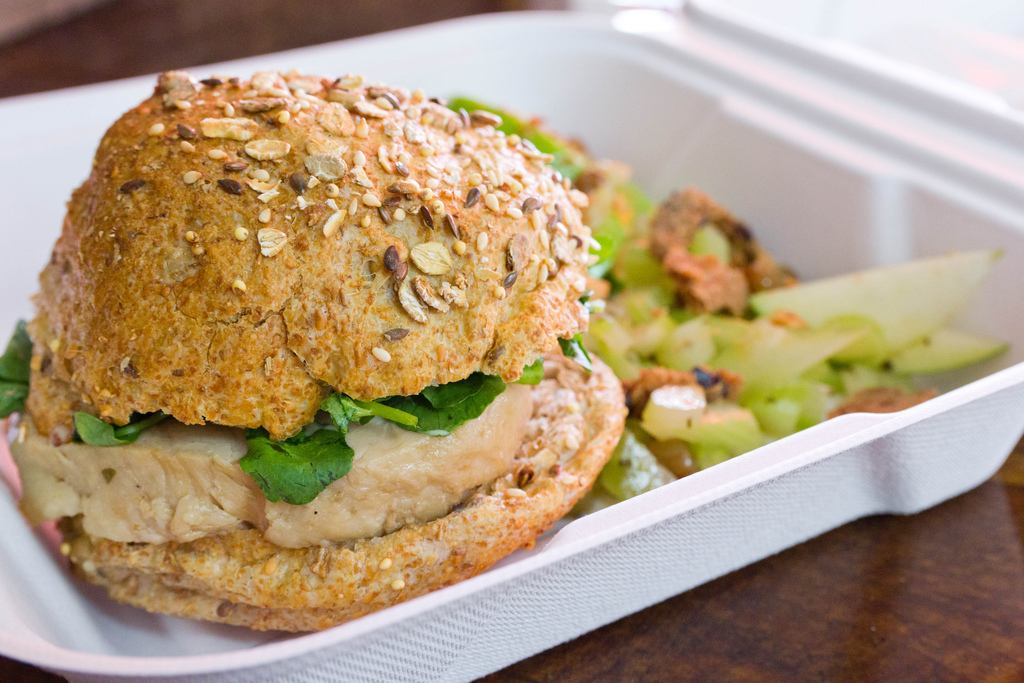chopped lettuce: (276, 373, 509, 486)
slice of bread: (40, 74, 582, 413), (78, 496, 570, 628)
